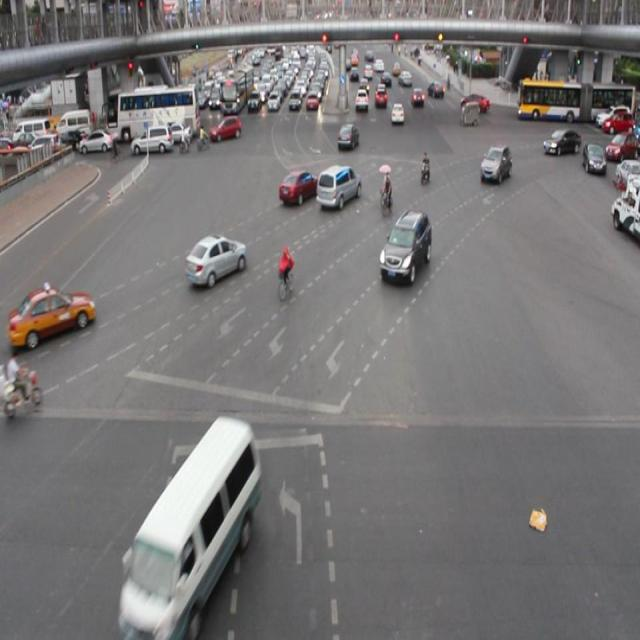car: (10, 281, 96, 344), (377, 208, 434, 286), (184, 230, 247, 288), (278, 167, 319, 206), (478, 142, 513, 186), (542, 124, 582, 160), (336, 121, 359, 152)
truck: (122, 426, 258, 628), (315, 162, 362, 211)
